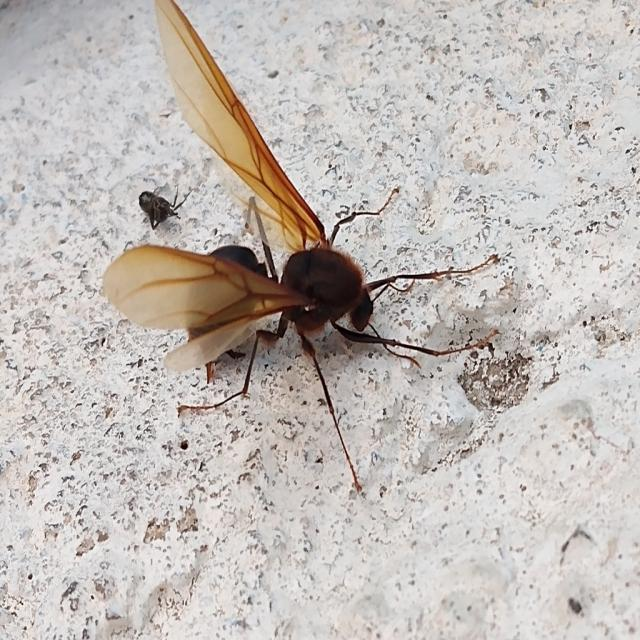Alive-Male-Alate: (102, 0, 502, 497)
